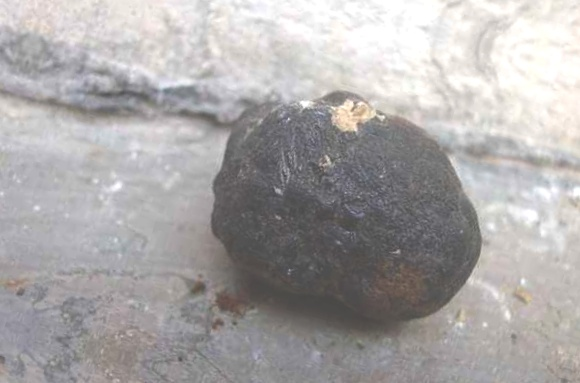halobolite: (185, 58, 521, 355)
